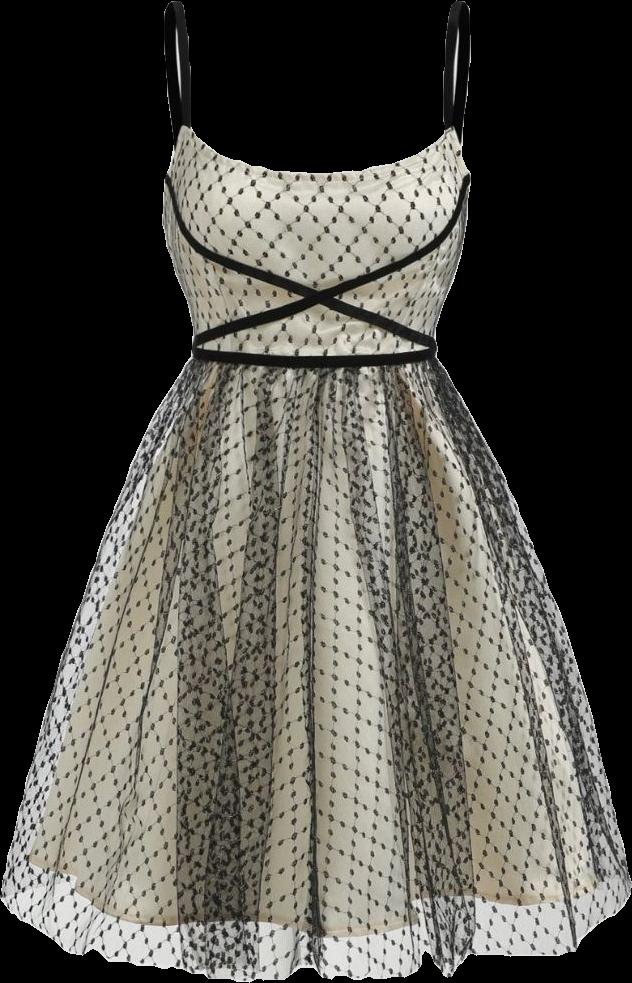Bodice: (162, 0, 471, 371)
Hemline: (0, 883, 631, 982)
Neckline: (171, 0, 464, 183)
Skirt: (1, 361, 631, 981)
Waistline: (185, 351, 443, 378)
